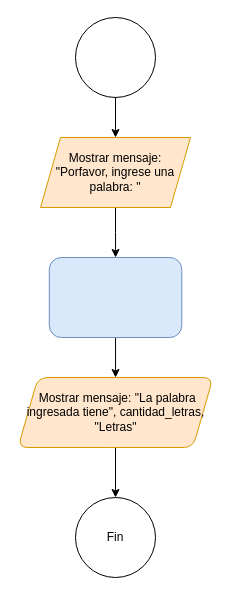
The diagram is 230 pixels wide and 595 high, and some of its shapes have lost their labels. Here are the shapes that lost their labels. From the top down, the box of each, then its label:
(74, 16, 156, 98): Inicio
(48, 256, 182, 338): Definir la variable cantidad_letras y asignarle la Longitud palabra_ingresada
